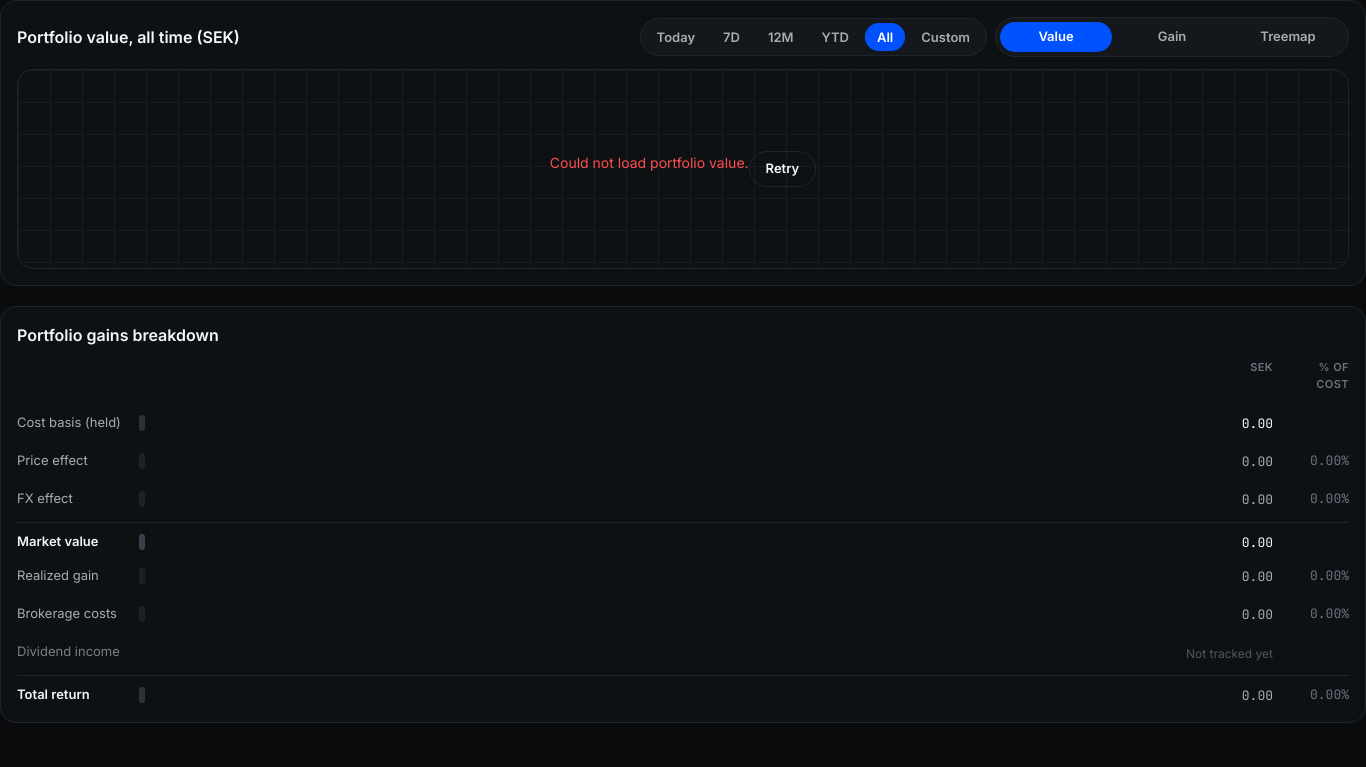
Test case: Dashboard chart panel › keeps the Treemap view reachable when value-history fails
Expected: the text "Could not load portfolio value." is shown, [550, 152, 749, 172]
Click the button "Treemap": coordinates (1288, 37) [1232, 22, 1344, 52]
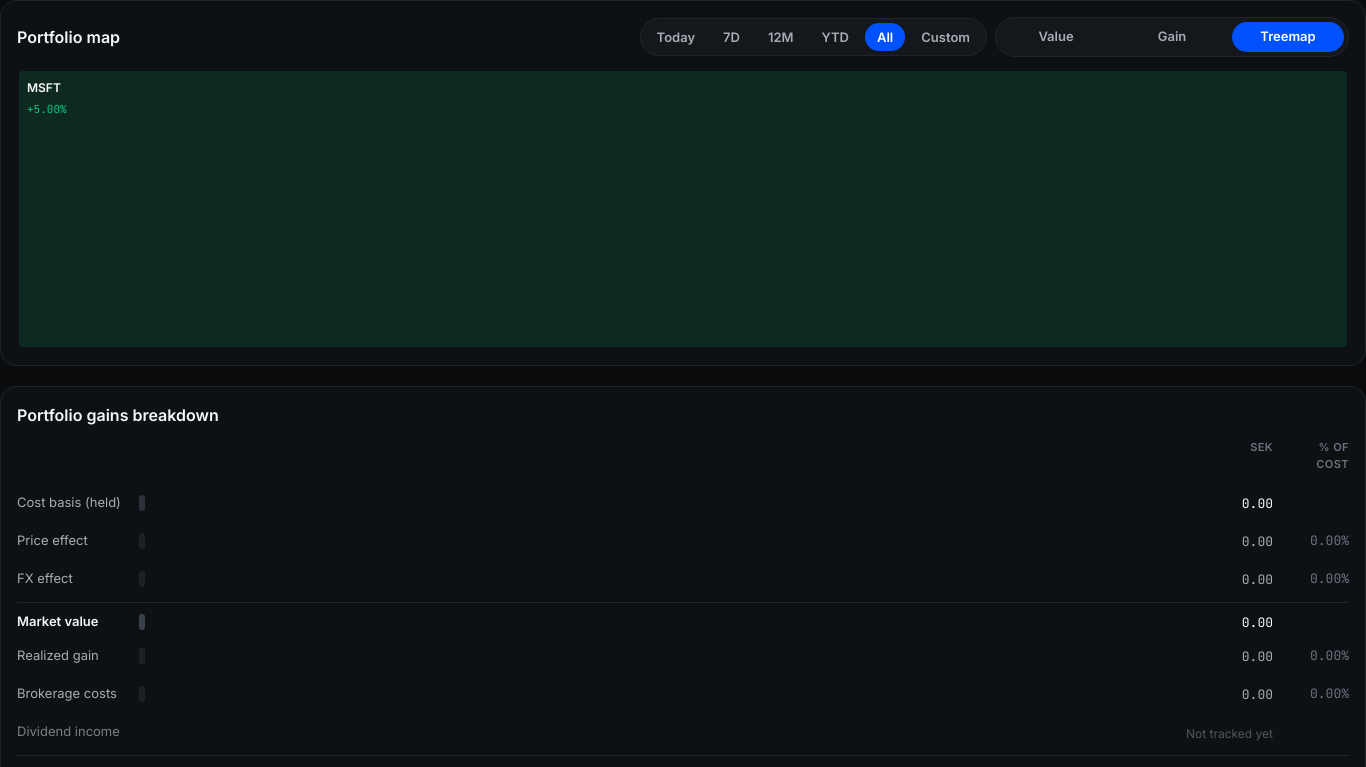
Result: the heading "Portfolio map" is shown at [17, 25, 120, 49]
Result: the text "Could not load portfolio value." is gone
